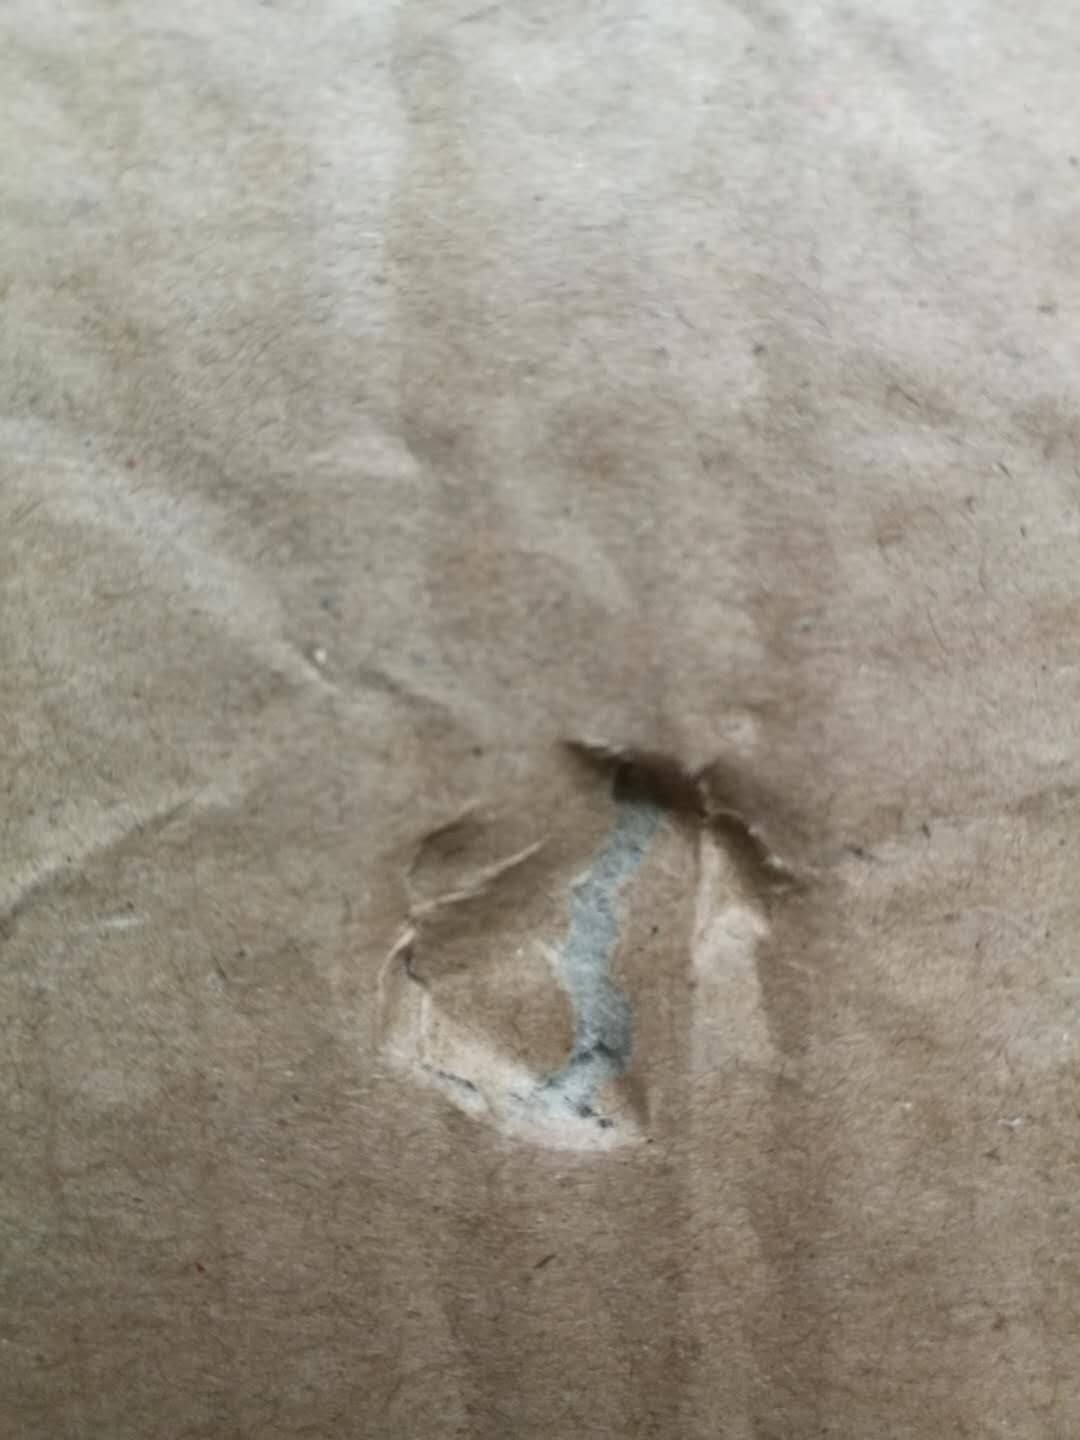defect: (5, 5, 1080, 979), (309, 685, 1080, 1439)
